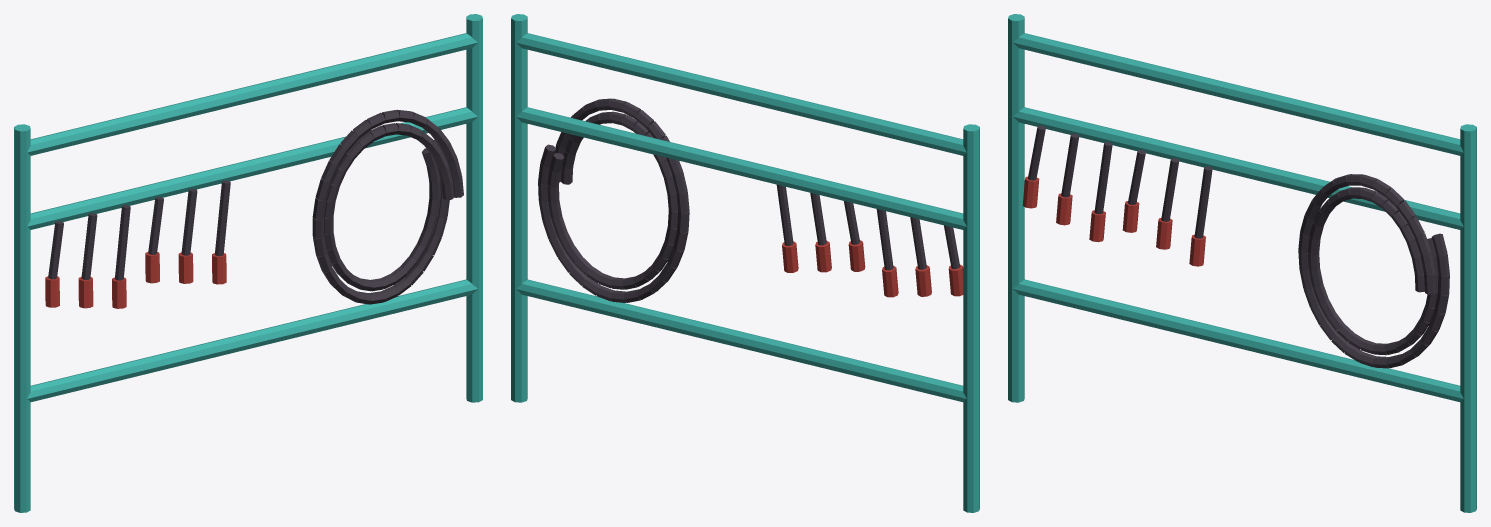
Rendered from TealRack.gltf.
3 renders of one model, left to right at view 1: azimuth 30°, elevation 25°; view 2: azimuth 150°, elevation 25°; view 3: azimuth 330°, elevation 25°, orthographic.
Visible parts, largest first — view 1: WorkshopRacks; view 2: WorkshopRacks; view 3: WorkshopRacks.
Part boxes in pixels (bbox=[...]): WorkshopRacks: bbox=[14, 14, 482, 512]; WorkshopRacks: bbox=[511, 14, 979, 512]; WorkshopRacks: bbox=[1008, 14, 1476, 512].
Size of the model in its own units: 2.24 by 1.75 by 0.17.
